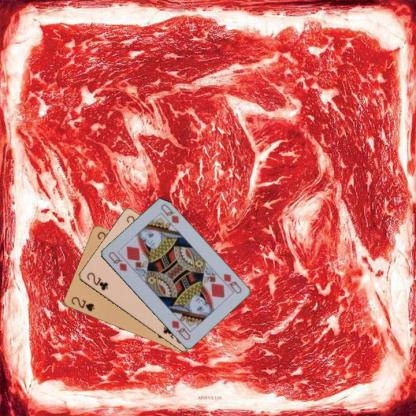2c: (84, 270, 109, 292)
2s: (68, 294, 96, 313)
Qd: (216, 270, 243, 295), (106, 249, 128, 273)
